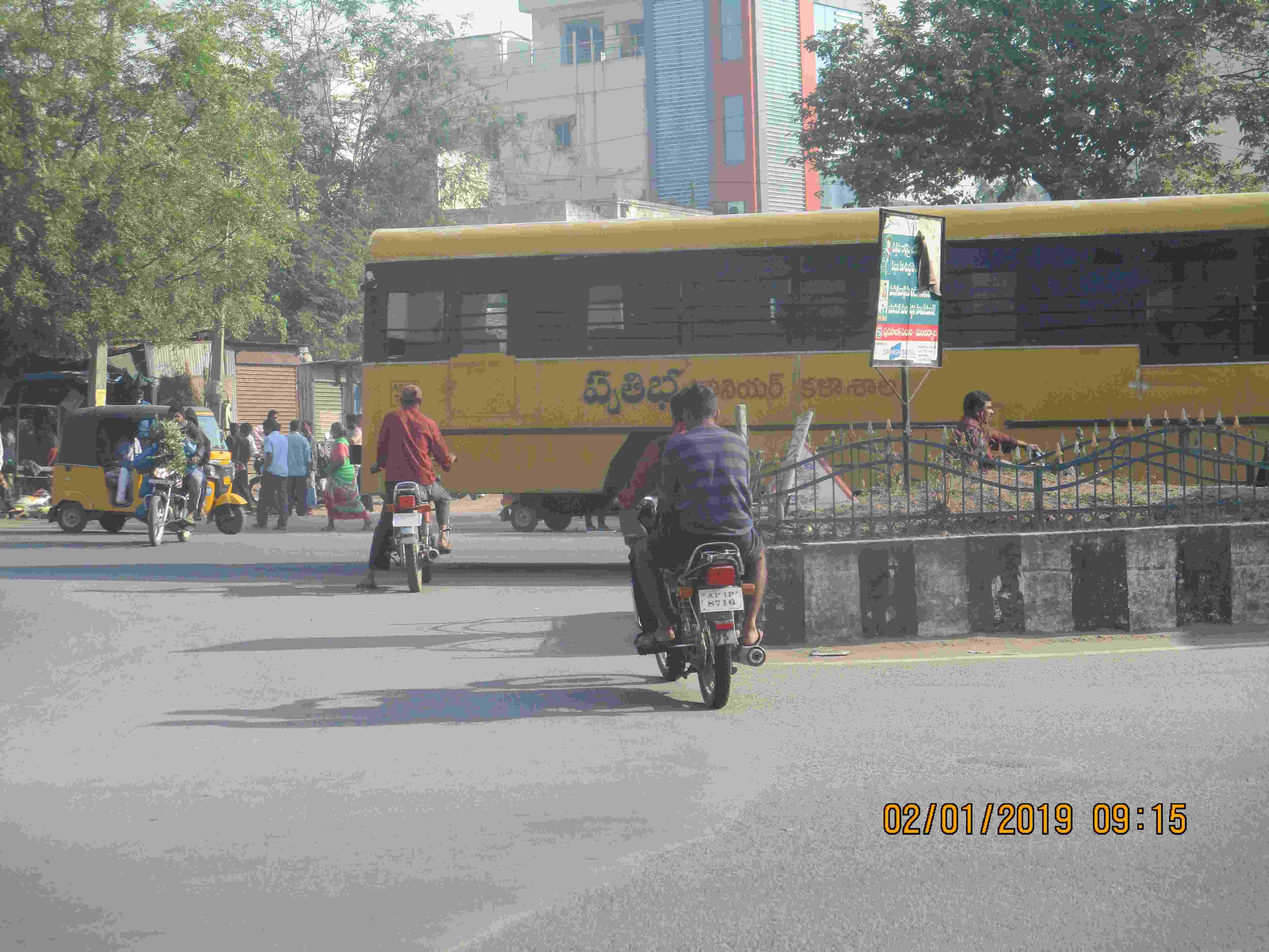plate: (689, 581, 756, 615), (391, 510, 427, 529)
